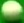white: (0, 0, 24, 23)
